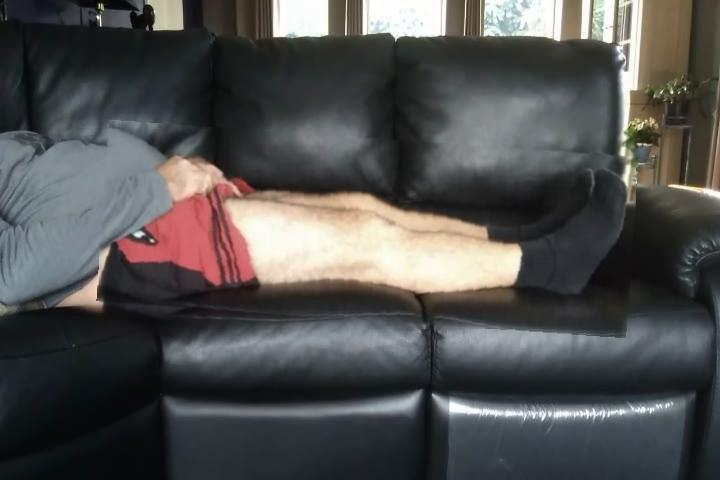lowerbody: (100, 130, 637, 330)
